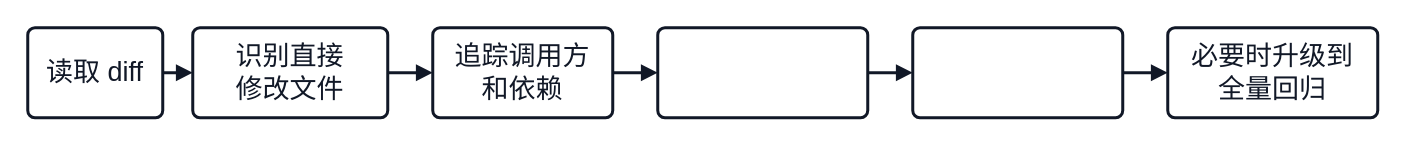
Some shapes in this 1404 by 144 pixel diagram are drawn without their labels. Each missing label, with the box of its shape:
匹配相关测试: (656, 26, 868, 118)
运行受影响测试: (910, 26, 1124, 118)
